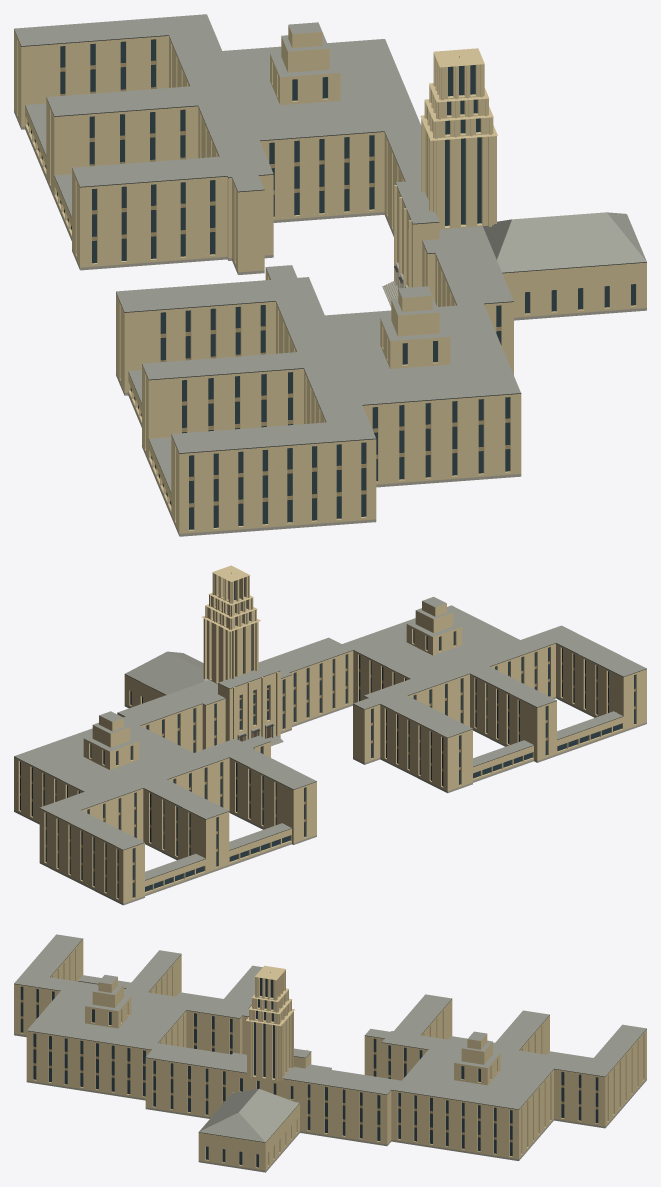
File: pavillon-roger-gaudry-far.glb
The picture shows the model from 3 angles, top to bottom: view 1: azimuth 30°, elevation 25°; view 2: azimuth 150°, elevation 25°; view 3: azimuth 270°, elevation 25°; orthographic projection. The views are drawn at different scales.
Parts seen in each view (by area): view 1: pavillon-roger-gaudry-0-brick, pavillon-roger-gaudry-0-roof, pavillon-roger-gaudry-0-glass, pavillon-roger-gaudry-0-stone, pavillon-roger-gaudry-0-metal, pavillon-roger-gaudry-0-spandrel; view 2: pavillon-roger-gaudry-0-brick, pavillon-roger-gaudry-0-roof, pavillon-roger-gaudry-0-glass, pavillon-roger-gaudry-0-stone, pavillon-roger-gaudry-0-metal, pavillon-roger-gaudry-0-spandrel; view 3: pavillon-roger-gaudry-0-brick, pavillon-roger-gaudry-0-roof, pavillon-roger-gaudry-0-glass, pavillon-roger-gaudry-0-stone, pavillon-roger-gaudry-0-metal, pavillon-roger-gaudry-0-spandrel.
Part boxes in pixels (left/top/right/bottom): pavillon-roger-gaudry-0-brick: left=14, top=25, right=646, bottom=533; pavillon-roger-gaudry-0-roof: left=14, top=14, right=646, bottom=492; pavillon-roger-gaudry-0-glass: left=27, top=39, right=635, bottom=529; pavillon-roger-gaudry-0-stone: left=14, top=110, right=646, bottom=536; pavillon-roger-gaudry-0-metal: left=14, top=29, right=646, bottom=491; pavillon-roger-gaudry-0-spandrel: left=60, top=60, right=510, bottom=507; pavillon-roger-gaudry-0-brick: left=14, top=565, right=646, bottom=903; pavillon-roger-gaudry-0-roof: left=14, top=596, right=646, bottom=879; pavillon-roger-gaudry-0-glass: left=20, top=577, right=635, bottom=898; pavillon-roger-gaudry-0-stone: left=14, top=696, right=646, bottom=905; pavillon-roger-gaudry-0-metal: left=14, top=573, right=646, bottom=880; pavillon-roger-gaudry-0-spandrel: left=20, top=661, right=635, bottom=883; pavillon-roger-gaudry-0-brick: left=14, top=939, right=646, bottom=1170; pavillon-roger-gaudry-0-roof: left=14, top=934, right=646, bottom=1142; pavillon-roger-gaudry-0-glass: left=20, top=978, right=598, bottom=1167; pavillon-roger-gaudry-0-stone: left=14, top=1033, right=646, bottom=1172; pavillon-roger-gaudry-0-metal: left=14, top=939, right=646, bottom=1142; pavillon-roger-gaudry-0-spandrel: left=20, top=999, right=598, bottom=1142.
Bounding box in the file's own units: 185 × 70 × 266.
